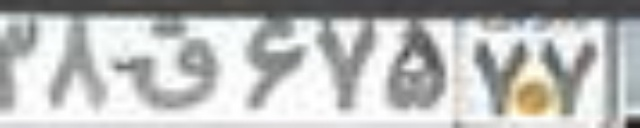3: (0, 12, 37, 110)
5: (385, 19, 448, 109)
6: (243, 17, 302, 110)
7: (315, 16, 379, 108), (541, 41, 598, 116), (470, 37, 525, 114)
8: (46, 11, 109, 110)
ghaf: (126, 14, 219, 109)
